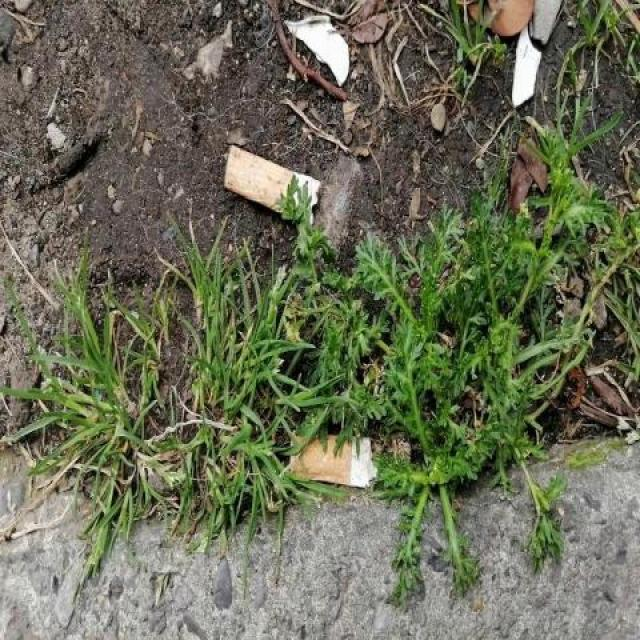non-organic waste: (219, 140, 325, 232), (288, 428, 381, 499)
